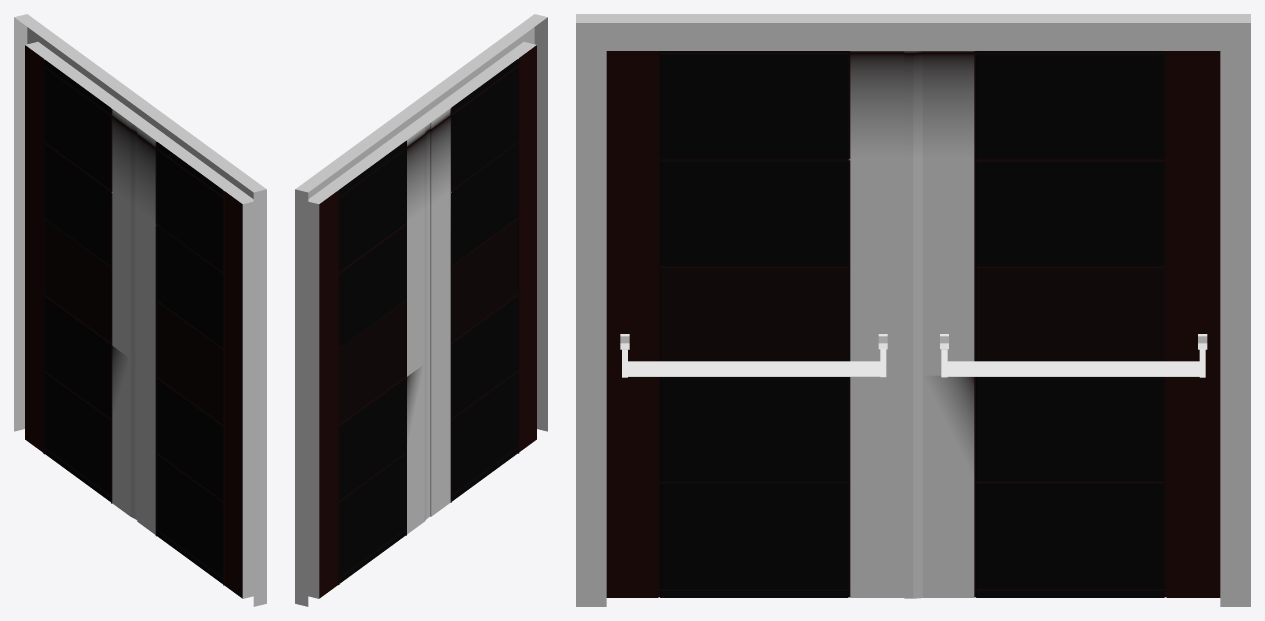
File: door.fbx
3 renders of one model, left to right at view 1: azimuth 30°, elevation 25°; view 2: azimuth 150°, elevation 25°; view 3: azimuth 270°, elevation 25°, orthographic. The views are drawn at different scales.
Visible parts, largest first — view 1: Cube.001; view 2: Cube.001; view 3: Cube.001, Cube.004, Cube.009.
Boxes of the visible parts, <box> form: Cube.001: <box>14,14,266,606</box>; Cube.001: <box>295,14,547,606</box>; Cube.001: <box>576,14,1250,606</box>; Cube.004: <box>628,361,880,376</box>; Cube.009: <box>947,361,1199,376</box>.
Bounding box in the file's own units: 0.0968 × 2.66 × 2.54.
